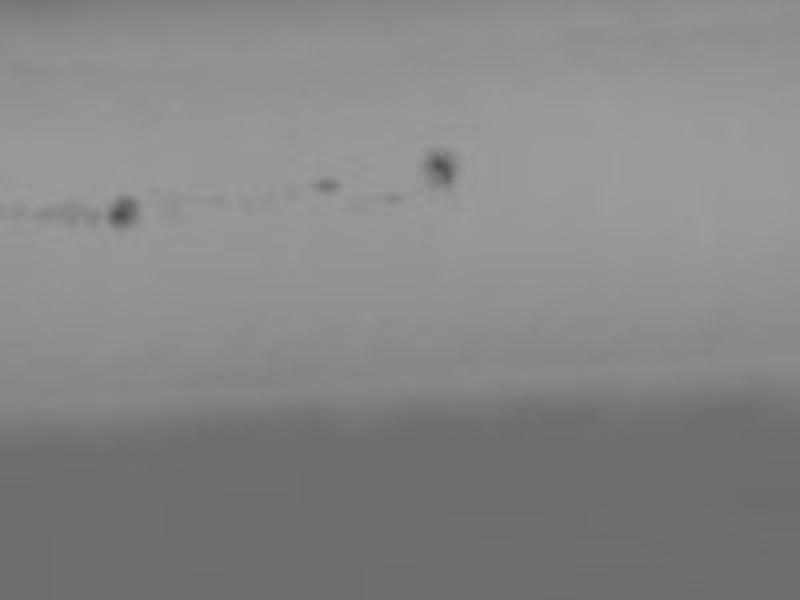defect: (426, 146, 466, 193), (110, 198, 143, 235), (42, 199, 84, 225), (315, 177, 338, 194), (383, 190, 406, 205), (87, 211, 103, 232)
